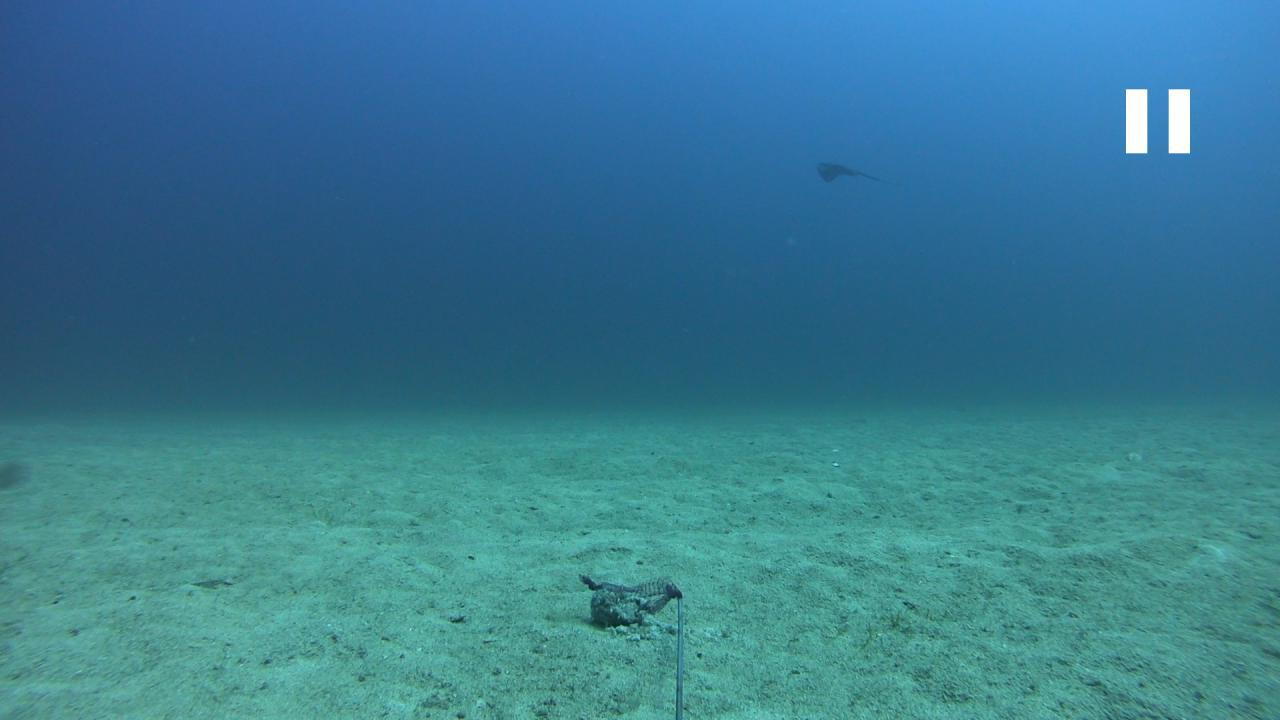dasyatis: (816, 160, 886, 184)
